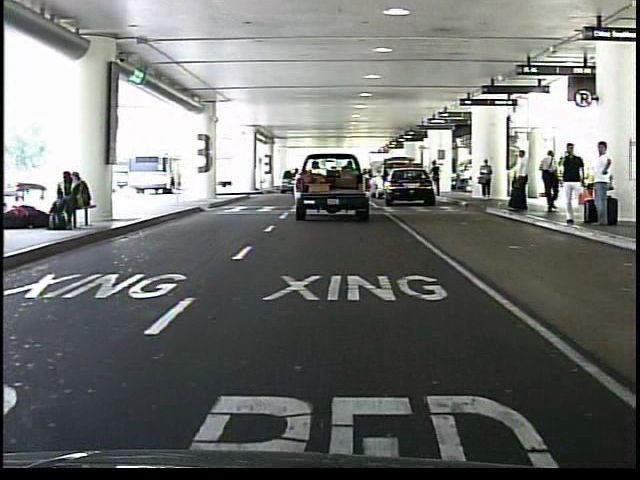person: (555, 141, 589, 229), (588, 136, 617, 233), (539, 145, 564, 215), (507, 147, 533, 214), (478, 158, 495, 204), (430, 160, 442, 199)
